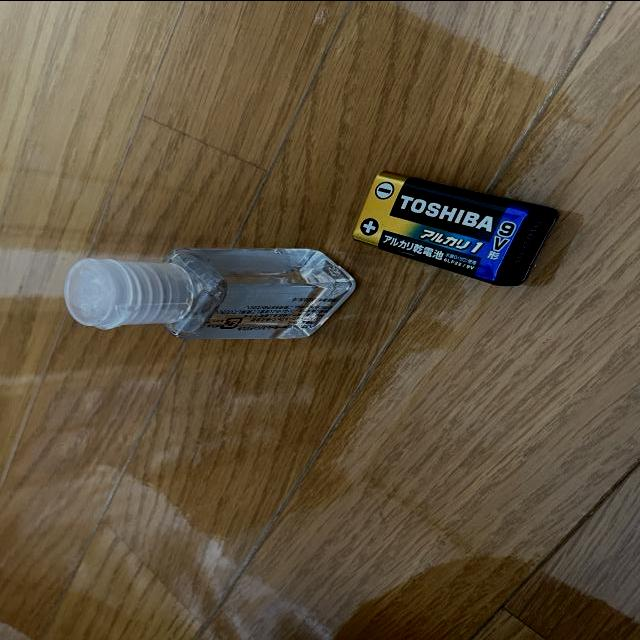9V: (352, 170, 561, 285)
